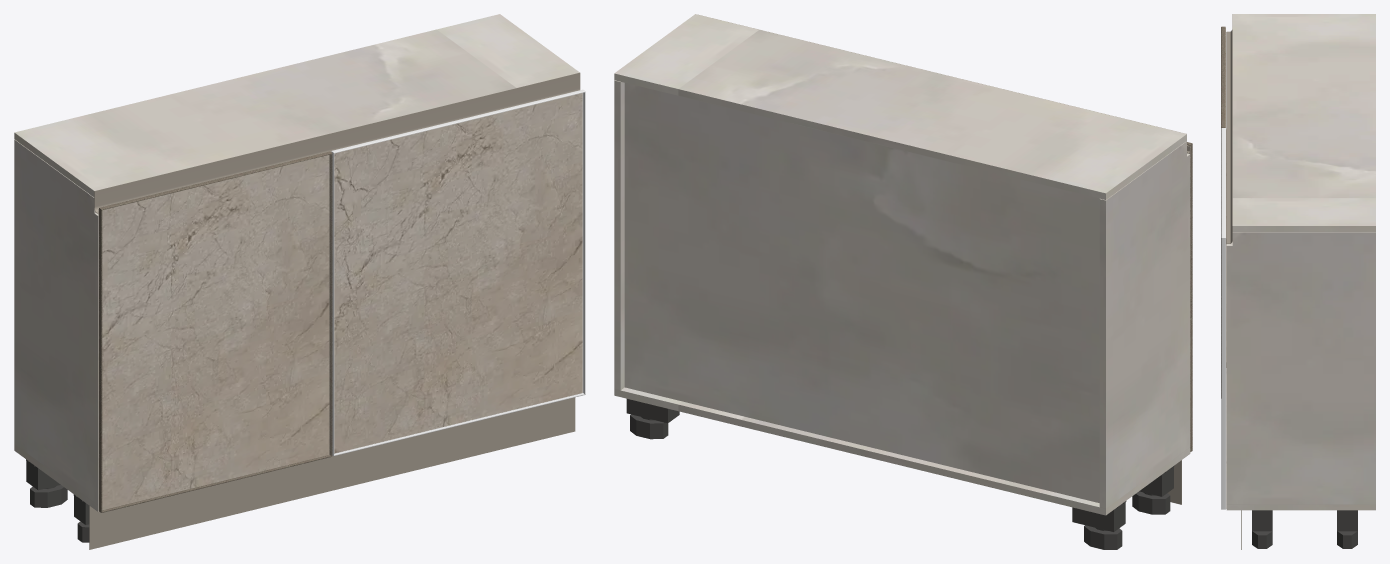
File: BASE BLIND CABINET 1 SHELF (H720xW1150xD336) S550_BBC1S1HS_RH.glb
3 views of the same model, side by side, from view 1: azimuth 30°, elevation 25°; view 2: azimuth 150°, elevation 25°; view 3: azimuth 270°, elevation 25° (orthographic). The views are drawn at different scales.
Size of what is drawn, in the model's own units: 1.15 by 0.82 by 0.3548.
Materials: 6 (3 with a texture image).
